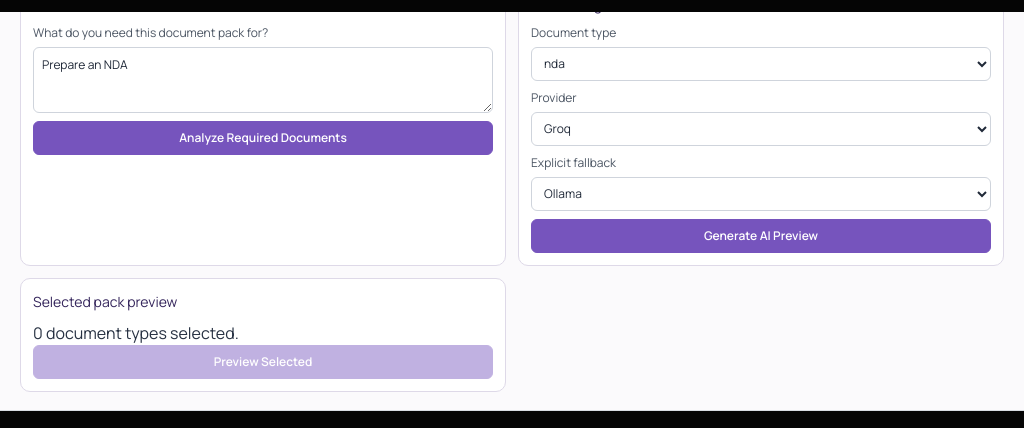
Scenario: DocumentAIAssistantPanel › validated generation preserves explicit provider and fallback controls
Earlier steps of the test are not shown.
(page scrolled)
Step 1. Click the button "Generate AI Preview" → (761, 236), box [531,218,991,252]
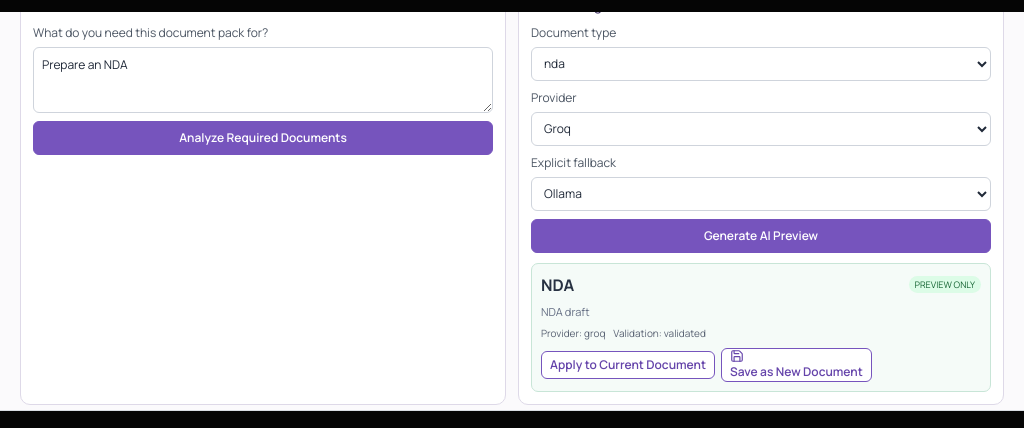
Expected: the text "Provider: groq" is shown, [541,326,605,341]
